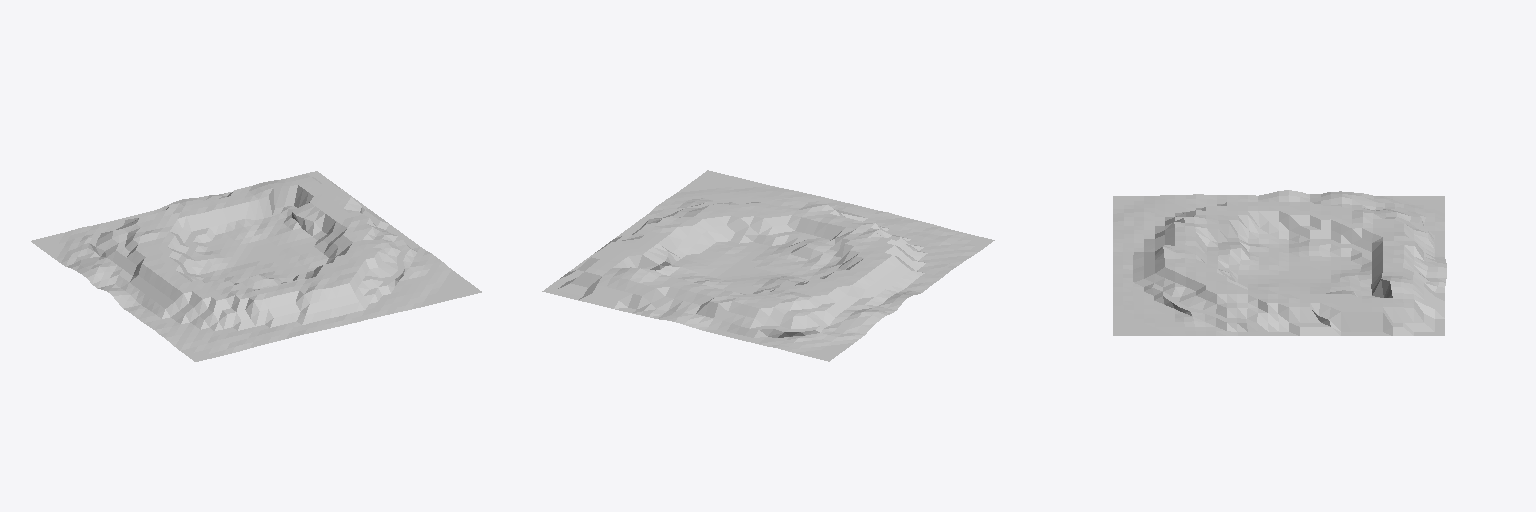
Rendered from OasisBowl.obj.
The picture shows the model from 3 angles: view 1: azimuth 30°, elevation 25°; view 2: azimuth 150°, elevation 25°; view 3: azimuth 270°, elevation 25°; orthographic projection.
Parts seen in each view (by area): view 1: Plane; view 2: Plane; view 3: Plane.
Boxes of the visible parts, <box> form: Plane: <box>31,171,481,361</box>; Plane: <box>542,170,994,361</box>; Plane: <box>1113,190,1446,335</box>.
Size of the model in its own units: 60.12 by 4.1 by 60.55.